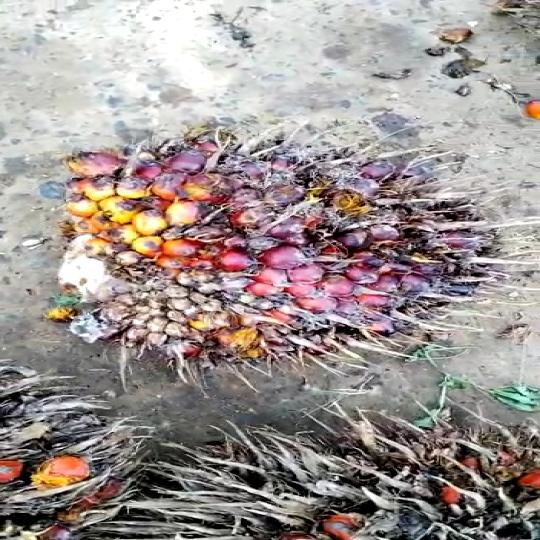masak: (35, 120, 526, 374)
